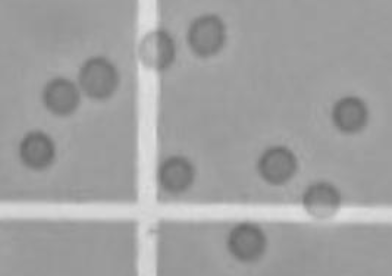cell: (183, 9, 232, 62), (253, 140, 303, 191), (77, 51, 123, 106), (133, 26, 181, 75), (151, 152, 199, 199), (15, 127, 60, 176), (224, 218, 270, 264), (39, 74, 84, 120), (301, 177, 345, 224), (330, 90, 373, 137)
